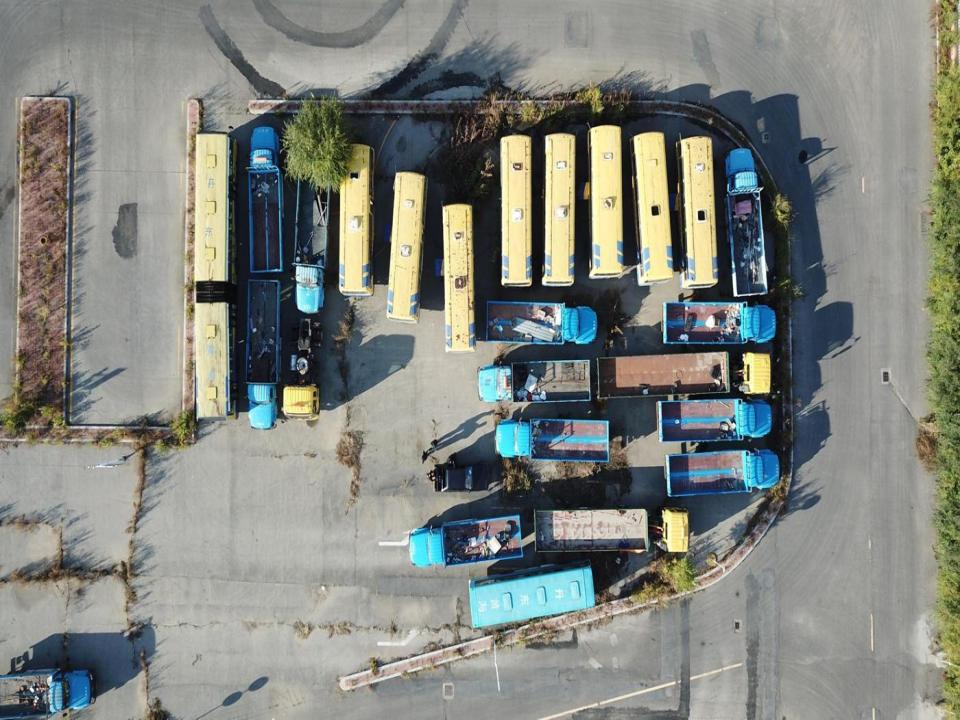bus: (469, 558, 595, 632), (388, 170, 430, 321), (678, 136, 719, 286), (632, 132, 672, 284), (337, 142, 374, 298), (441, 206, 479, 356), (542, 133, 575, 285), (500, 134, 532, 286), (590, 126, 622, 278)
truck: (535, 505, 688, 555), (596, 351, 769, 394), (726, 146, 768, 297), (409, 516, 524, 566), (248, 122, 284, 278), (292, 157, 328, 313), (655, 398, 773, 445), (244, 276, 279, 432), (495, 417, 612, 463), (664, 450, 781, 496), (661, 302, 778, 348), (476, 357, 591, 402), (484, 300, 599, 344), (0, 665, 99, 715)
